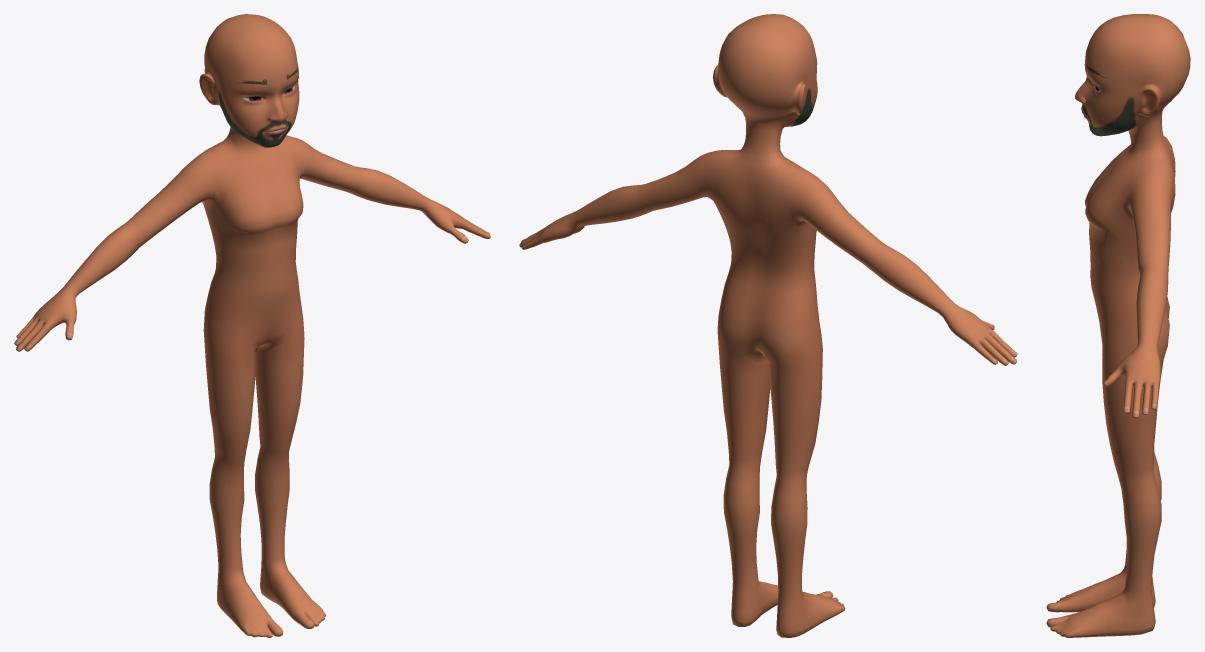
The model's file is frame_0017.glb.
The picture shows the model from 3 angles, left to right: view 1: azimuth 30°, elevation 25°; view 2: azimuth 150°, elevation 25°; view 3: azimuth 270°, elevation 25°; orthographic projection. The views are drawn at different scales.
Visible parts, largest first — view 1: frame_0017_head_geo; view 2: frame_0017_head_geo; view 3: frame_0017_head_geo.
Boxes of the visible parts, x1=… form: frame_0017_head_geo: x1=14, y1=14, x2=490, y2=637; frame_0017_head_geo: x1=519, y1=14, x2=1017, y2=637; frame_0017_head_geo: x1=1046, y1=14, x2=1190, y2=637.
Size of the model in its own units: 1.28 by 1.5 by 0.3253.
Materials: 3 (3 with a texture image).
